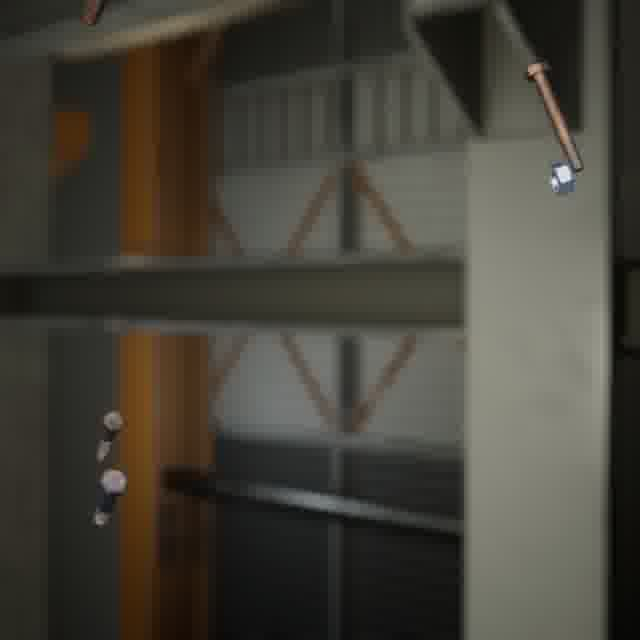bolt: (519, 57, 588, 176), (88, 463, 133, 529), (92, 406, 129, 465), (78, 0, 110, 30)
nut: (544, 158, 577, 199)
